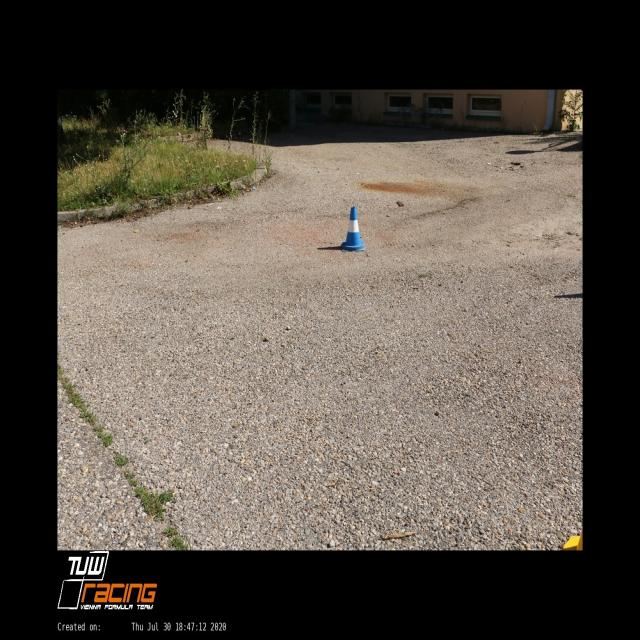blue_cone: (341, 206, 365, 252)
